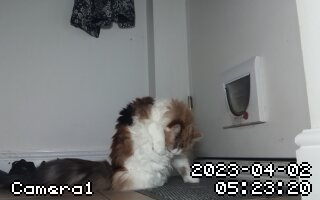clara: (65, 92, 215, 194)
